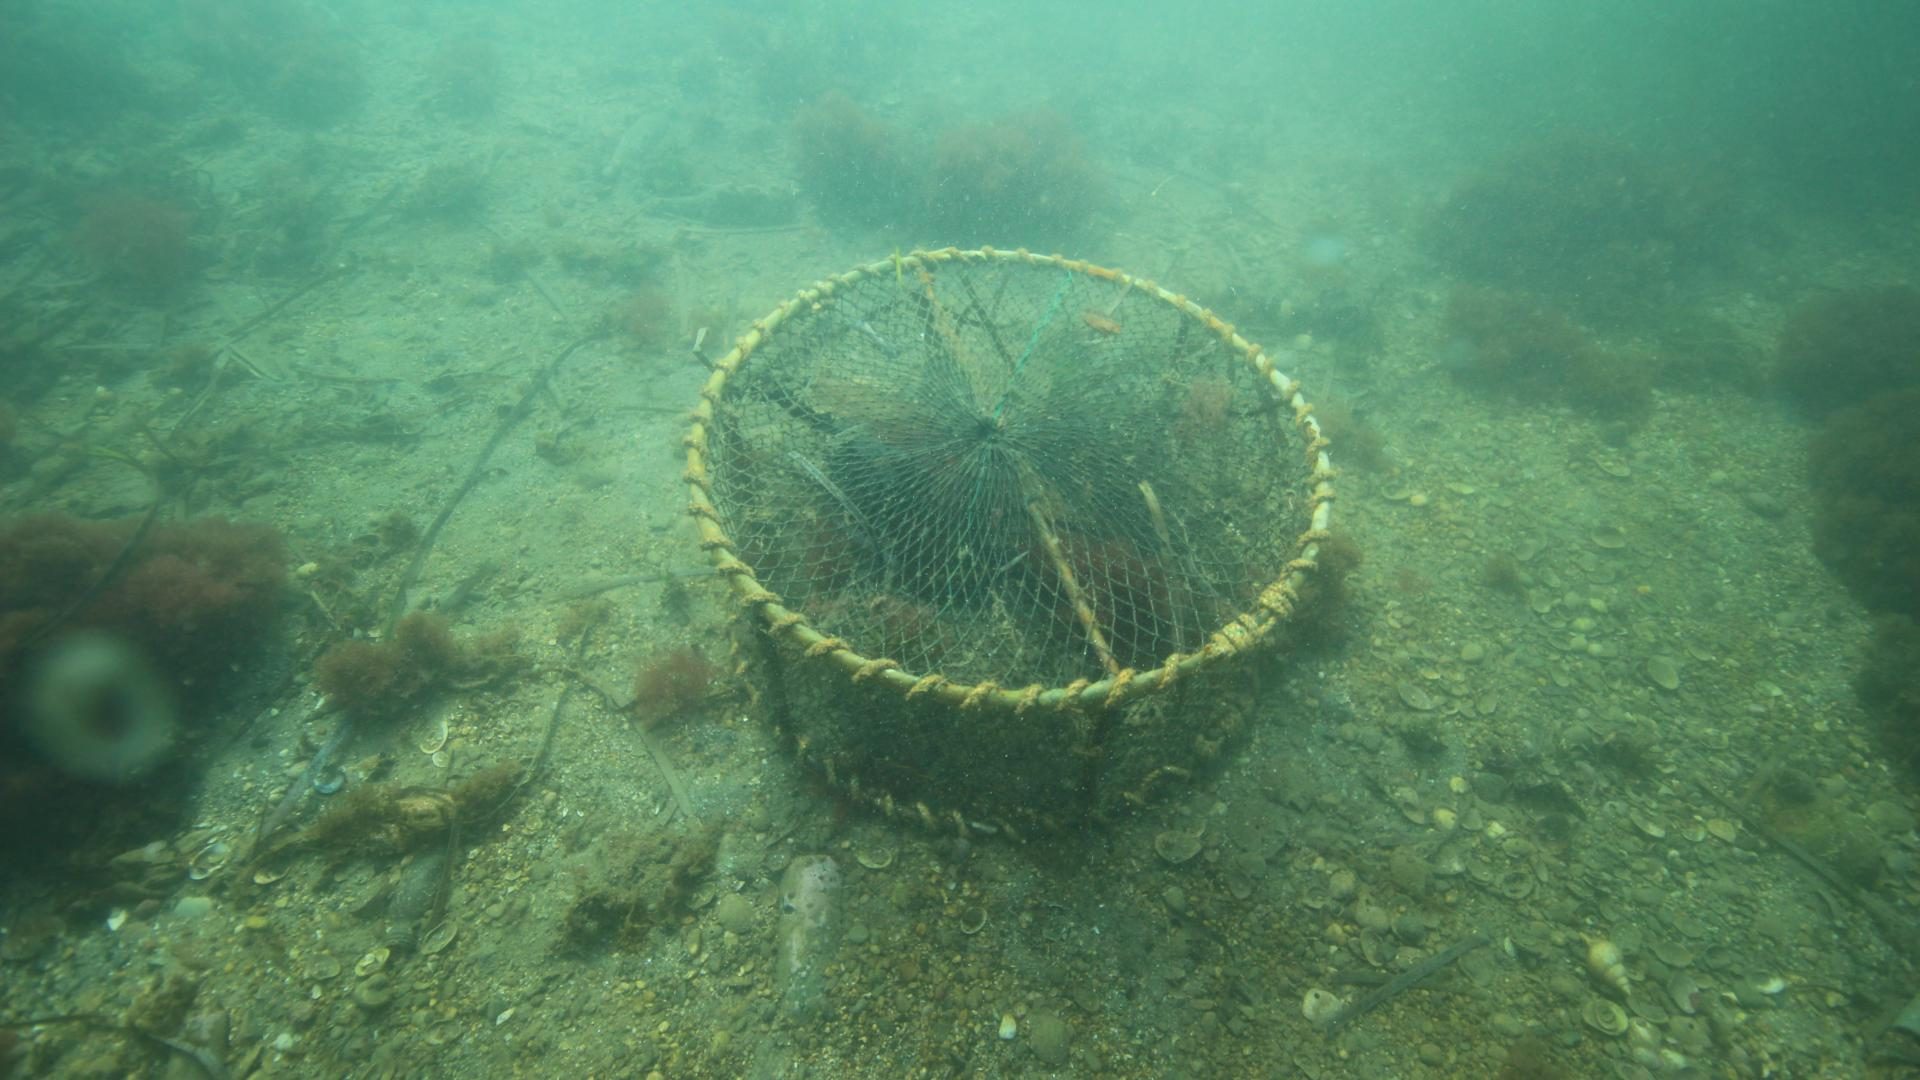circular fish trap: (680, 244, 1335, 840)
